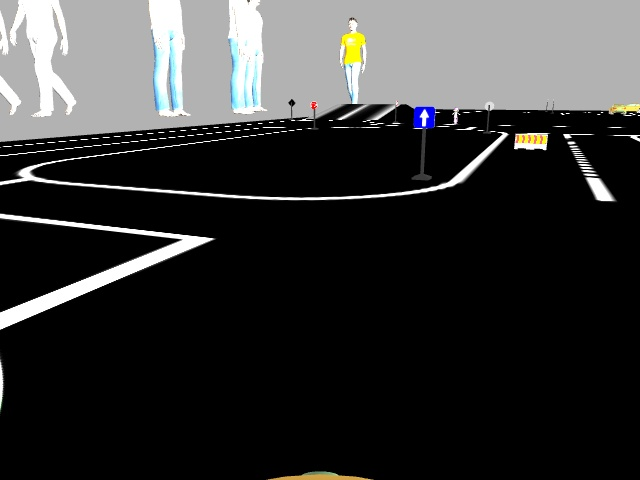ClosedRoadStand: (514, 134, 547, 150)
OneWay: (414, 107, 433, 128)
